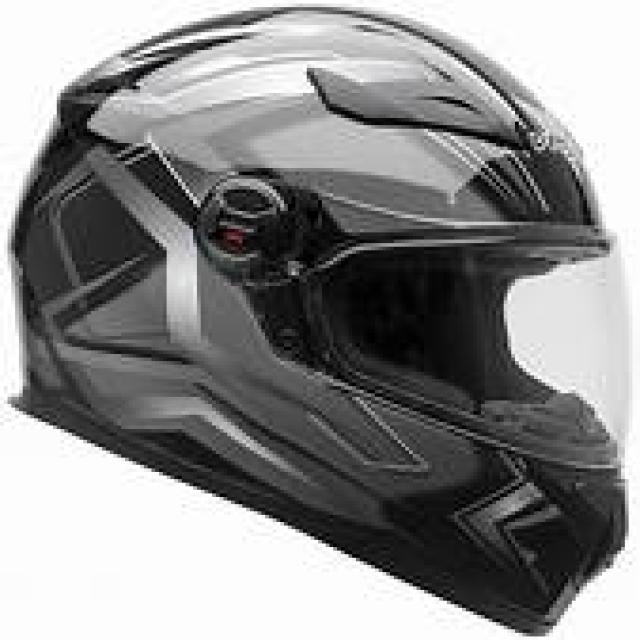helmet: (15, 7, 617, 633)
